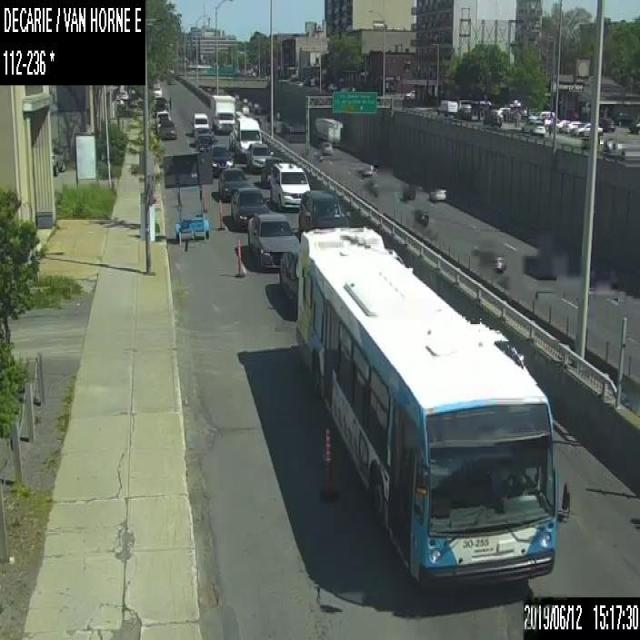bus: (298, 227, 569, 585)
construction: (163, 153, 210, 244), (317, 424, 340, 499), (217, 197, 226, 231), (235, 239, 242, 277)
vehicle: (246, 211, 299, 270), (299, 189, 349, 235), (229, 186, 270, 231), (270, 161, 309, 208), (277, 248, 298, 314), (232, 116, 262, 161), (219, 166, 251, 201), (210, 93, 234, 132), (207, 144, 234, 177), (312, 116, 341, 146), (521, 253, 551, 279), (260, 156, 284, 188), (245, 142, 272, 170), (478, 249, 506, 273), (600, 136, 625, 160), (572, 120, 602, 137), (194, 133, 218, 154), (190, 110, 209, 132), (521, 118, 544, 134), (158, 119, 176, 139), (192, 126, 213, 142), (436, 100, 457, 116), (482, 111, 501, 127), (412, 208, 429, 224), (399, 186, 416, 202), (428, 186, 446, 201), (563, 120, 582, 134), (615, 112, 634, 126), (155, 116, 170, 132), (361, 180, 377, 195), (358, 164, 374, 178), (555, 118, 569, 132), (154, 110, 168, 124), (319, 141, 332, 153), (537, 110, 554, 119), (403, 88, 414, 100), (630, 120, 639, 133)
